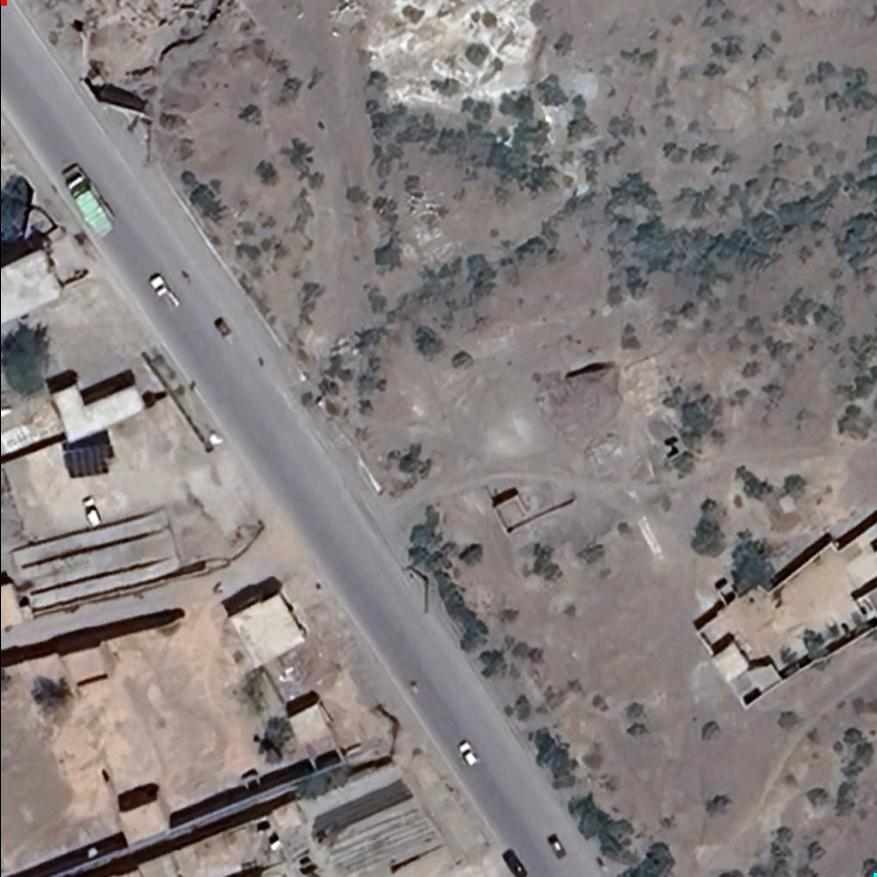Solarpanel: (60, 436, 116, 486)
